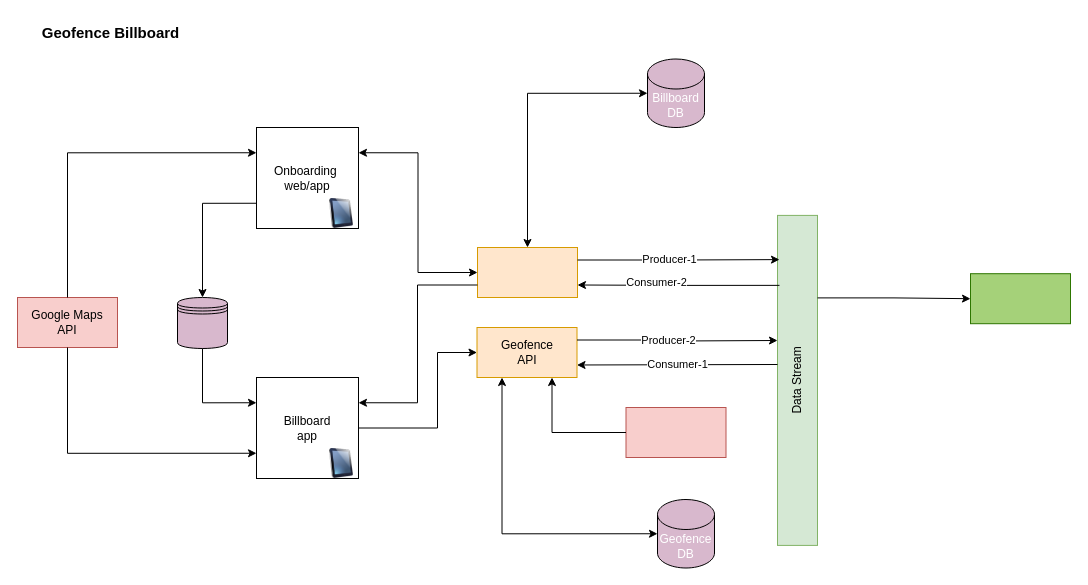
Some shapes in this 1088 by 585 pixel diagram are drawn without their labels. The shapes that lost their labels are listed below. From the top down, each one's centre as x and y in pixels, then its label:
the point at 527,272: Billboard API
the point at 1020,298: Data Analytics
the point at 202,322: Media Store
the point at 675,432: Google Geofence API
